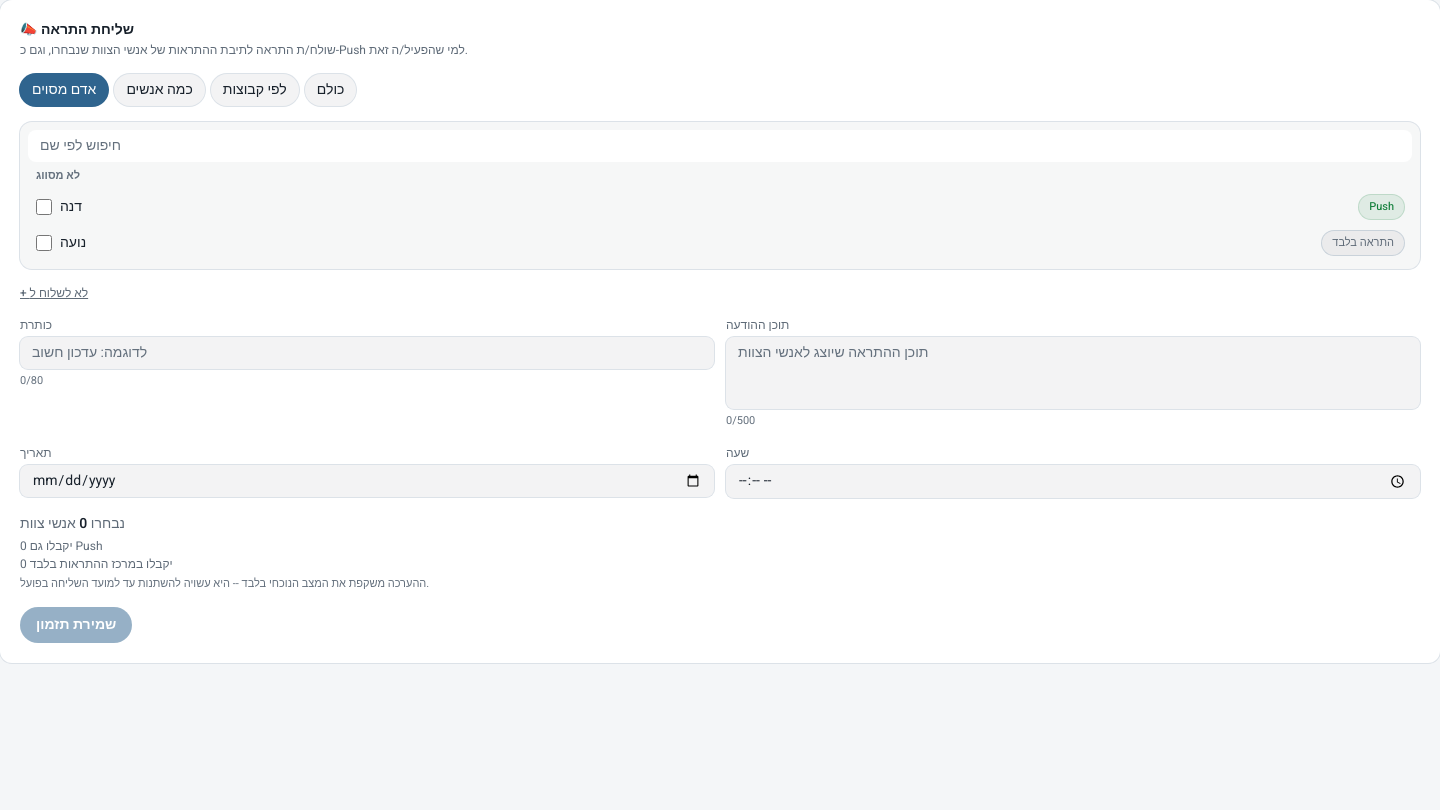
Test: ManagerBroadcastComposer -- mode is fixed by the parent, no internal 'מתי לשלוח' selector › submits createScheduledBroadcastAction with the picked local date/time, and never claims Push was sent
The image size is (1440, 810).
Click the text "דנה" at x=71, y=206, box [60,196,82,216]
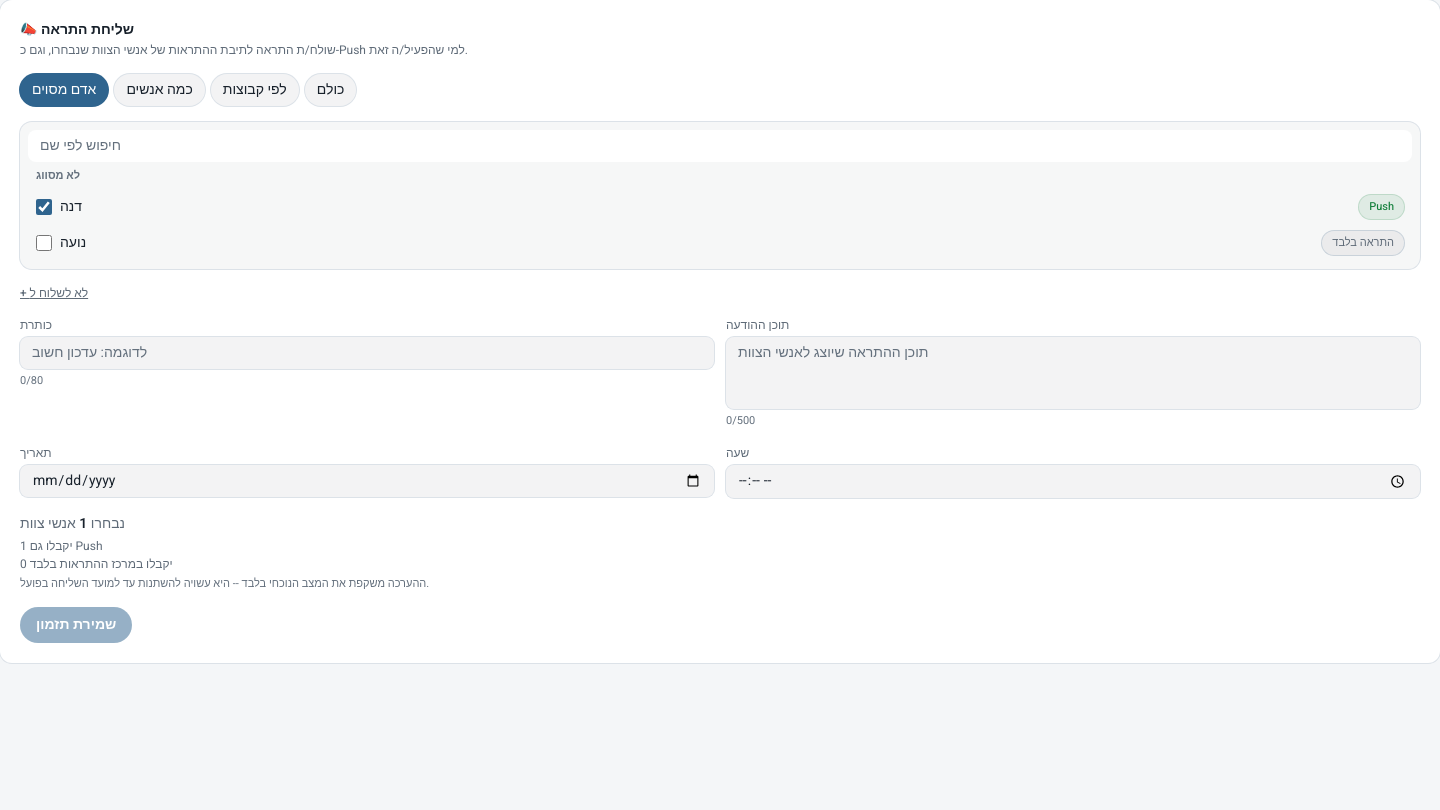
Type "כותרת" into the field with placeholder "לדוגמה: עדכון חשוב" at x=367, y=352, box [20,336,714,368]
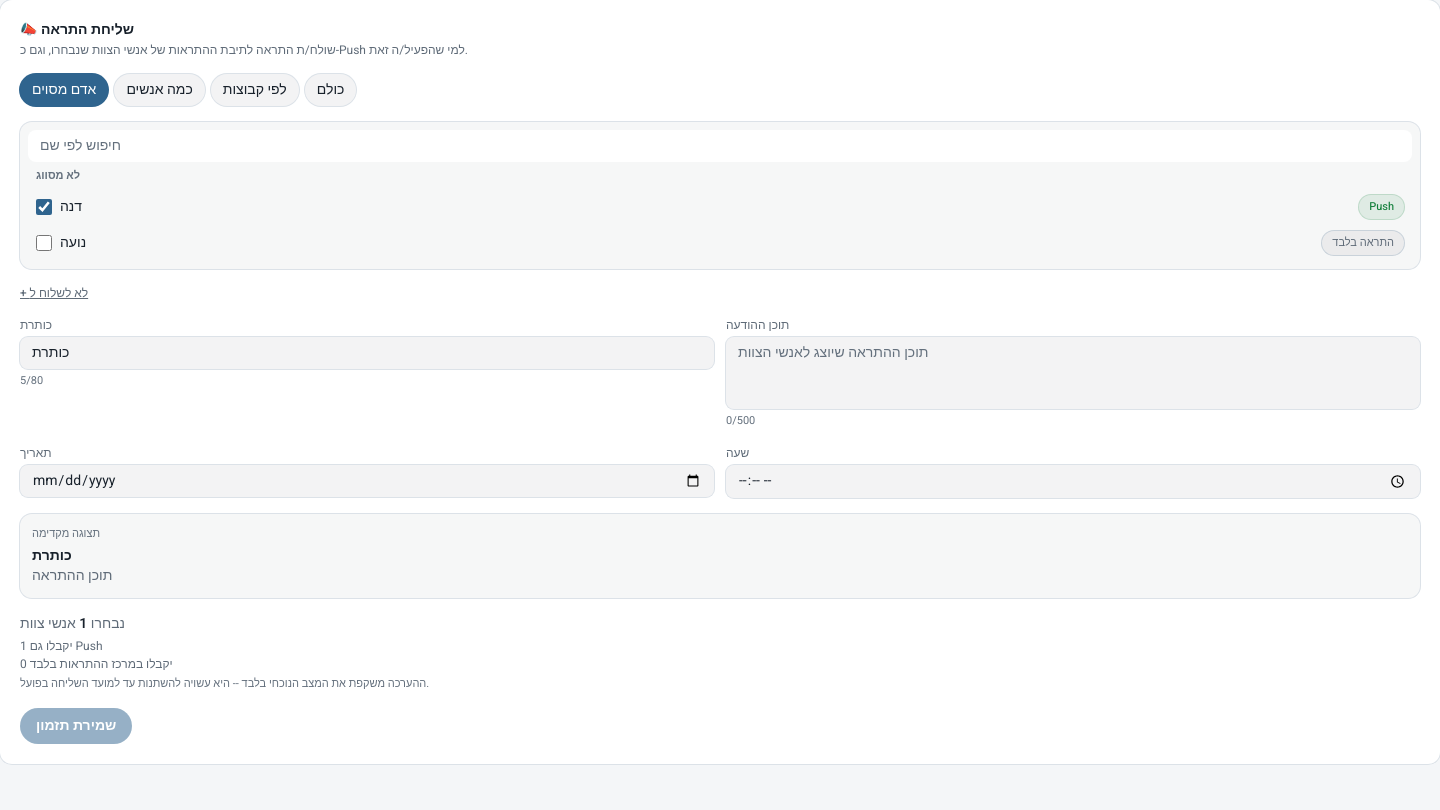
Type "תוכן" into the text box with placeholder "תוכן ההתראה שיוצג לאנשי הצוות" at x=1073, y=372, box [726,336,1420,408]
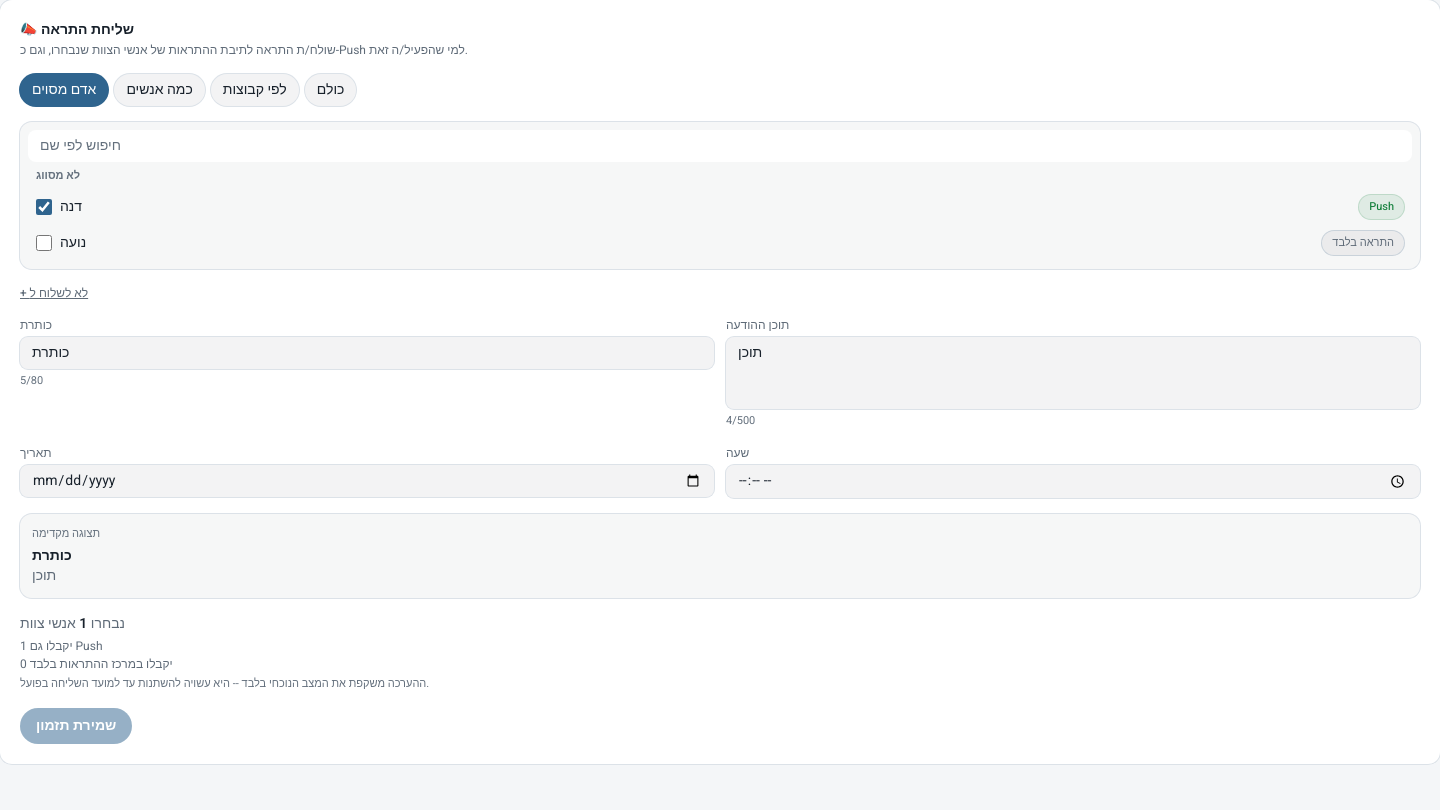
Type "2026-08-23" into the date field named "תאריך השליחה" at x=367, y=481, box [20,465,714,497]
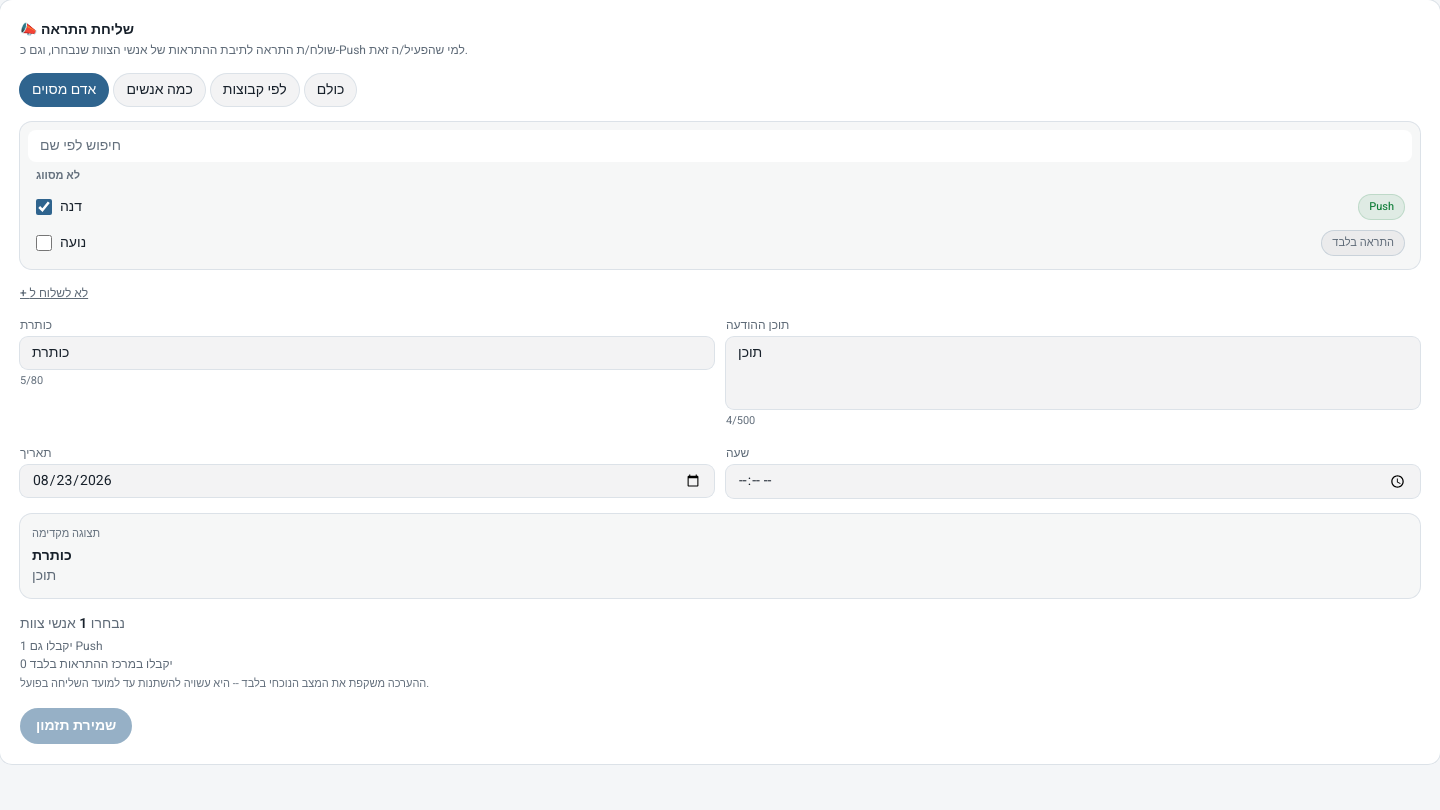
Type "20:00" into the time field named "שעת השליחה" at x=1073, y=481, box [726,465,1420,498]
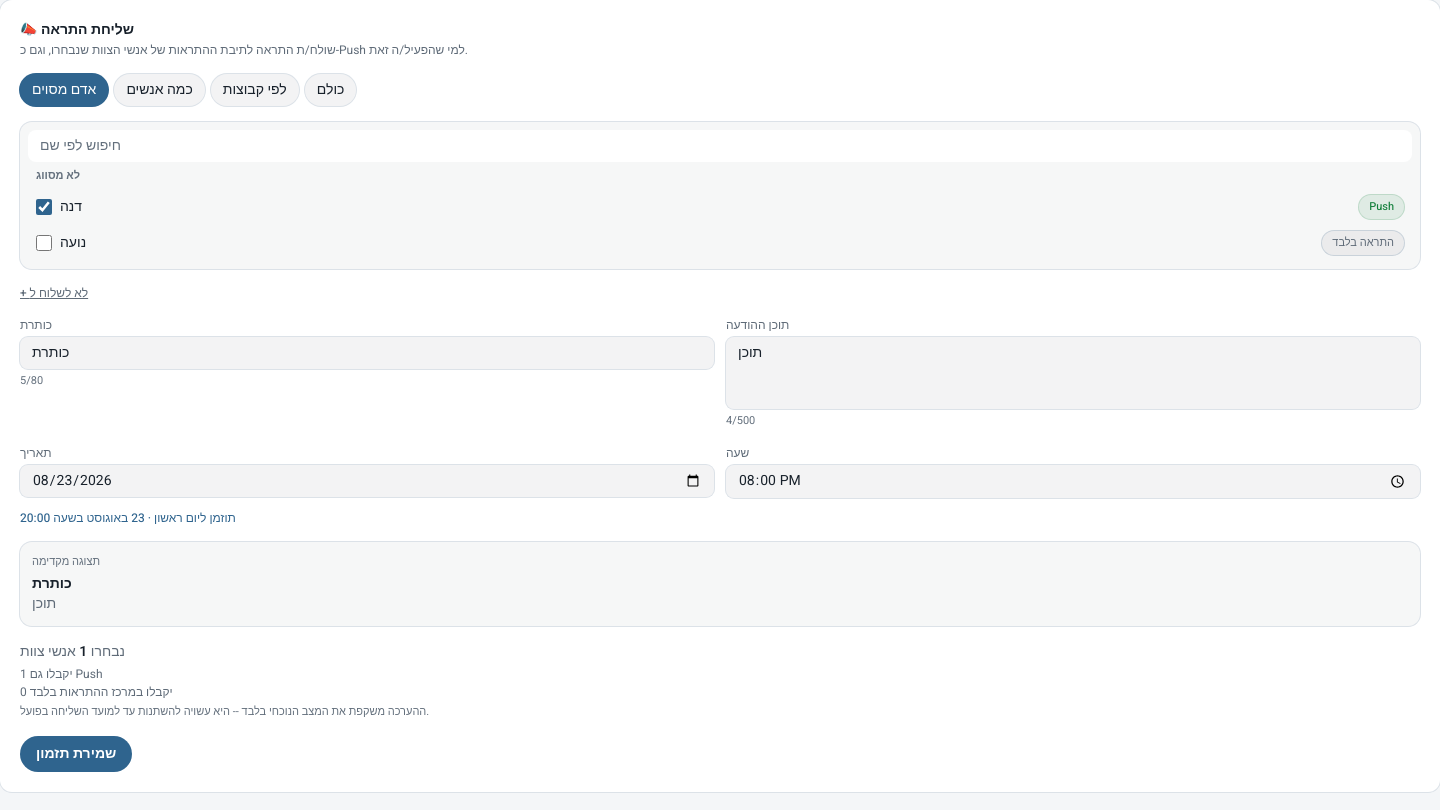
Click the button "שמירת תזמון" at x=76, y=754, box [20,736,132,772]
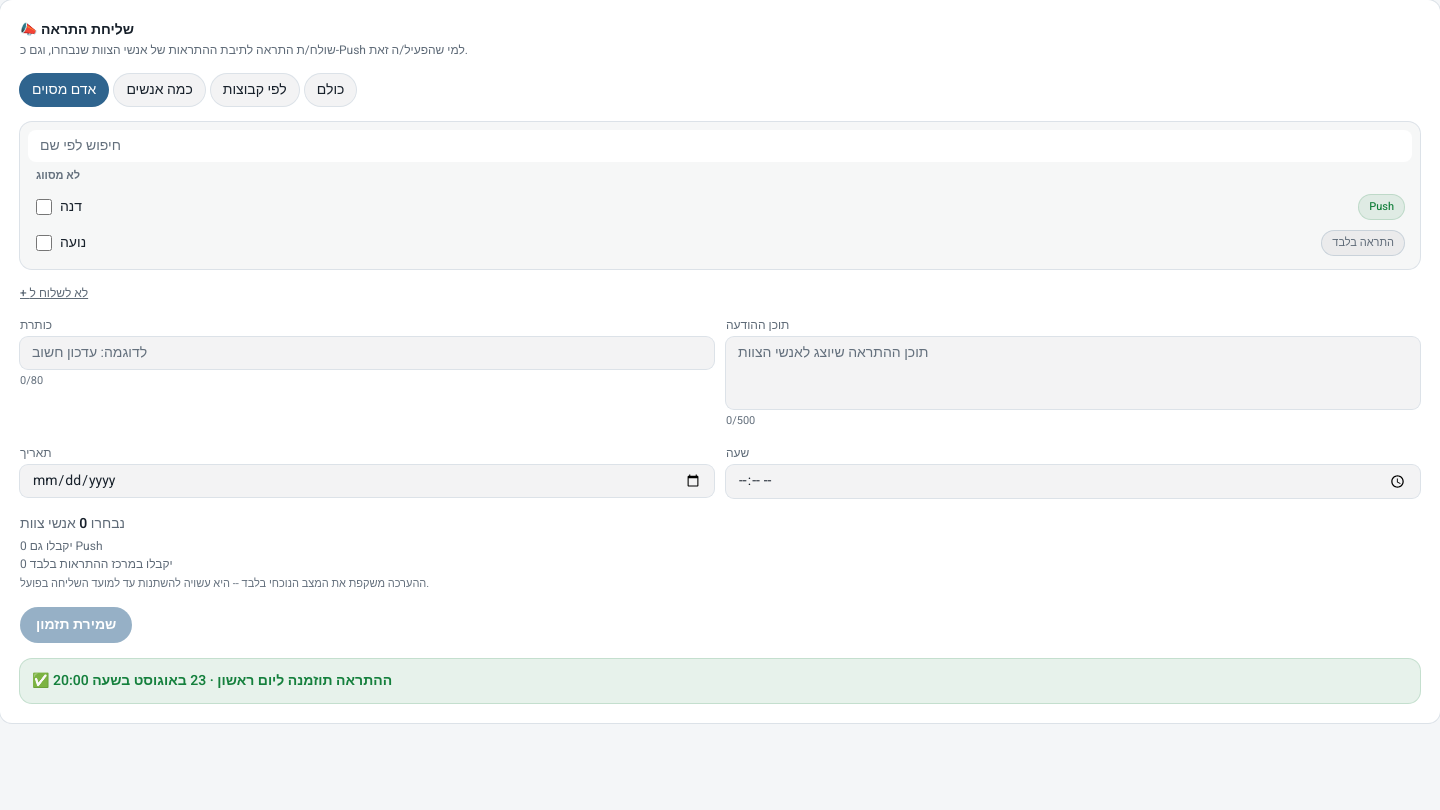
Result: the text "ההתראה תוזמנה" is shown at [32,670,392,691]
